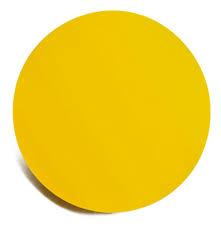yellow_circle: (10, 6, 214, 216)
